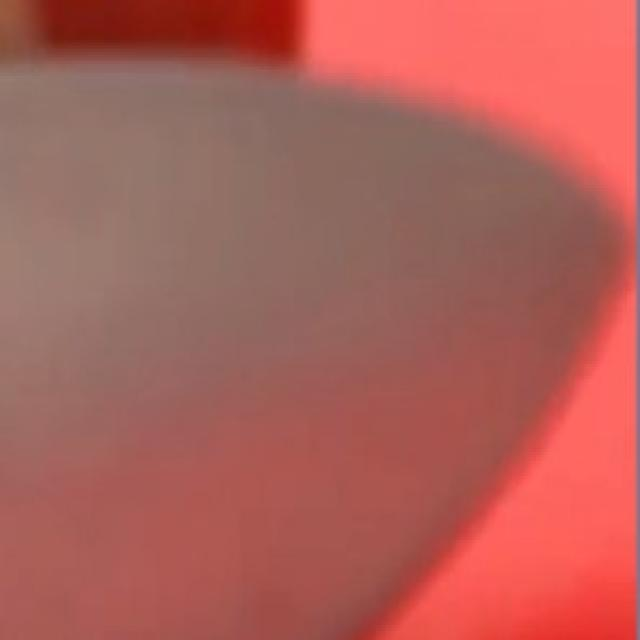knives: (24, 25, 632, 625)
